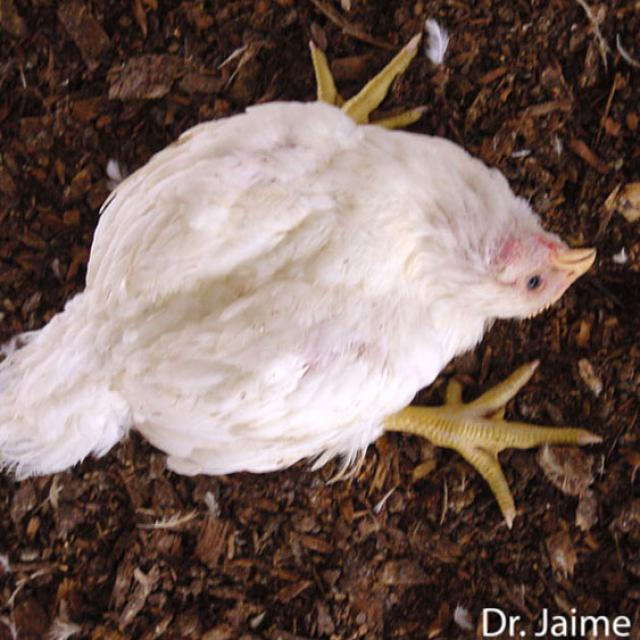AbNormal: (92, 41, 597, 529)
